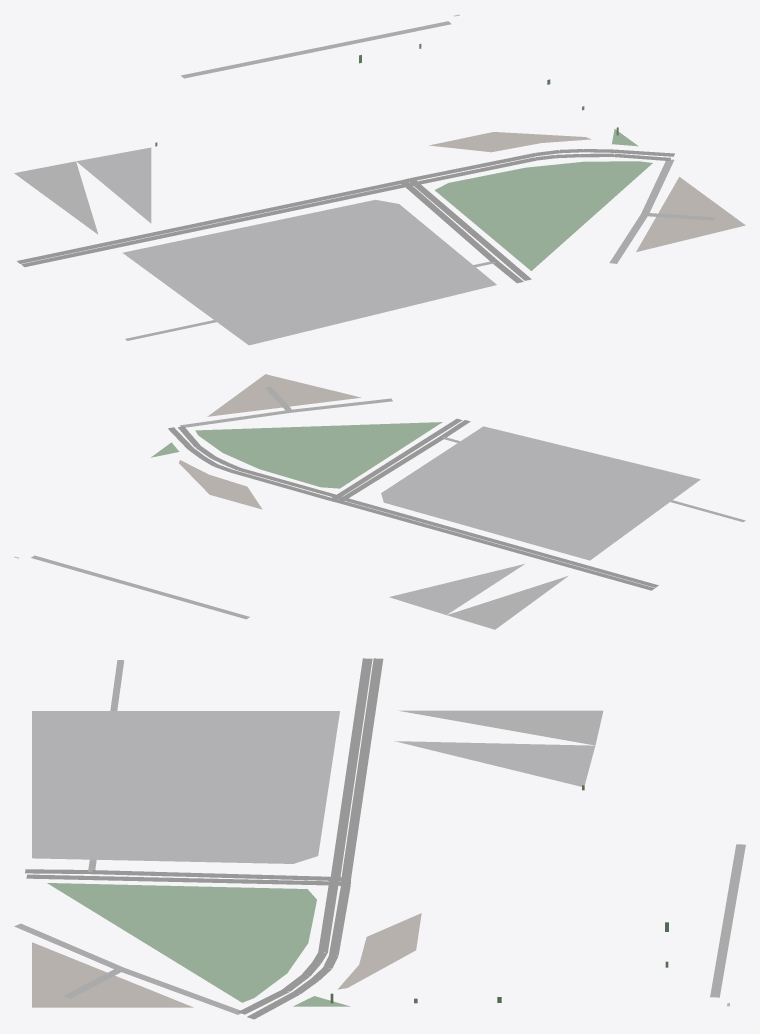
3 renders of one model, top to bottom at view 1: azimuth 30°, elevation 25°; view 2: azimuth 150°, elevation 25°; view 3: azimuth 270°, elevation 25°, orthographic. The views are drawn at different scales.
Size of the model in its own units: 609 by 9.16 by 524.
